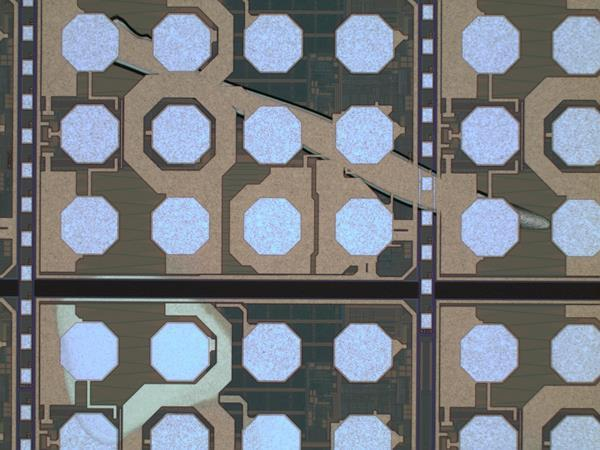COATING BAD: (49, 9, 561, 450)
